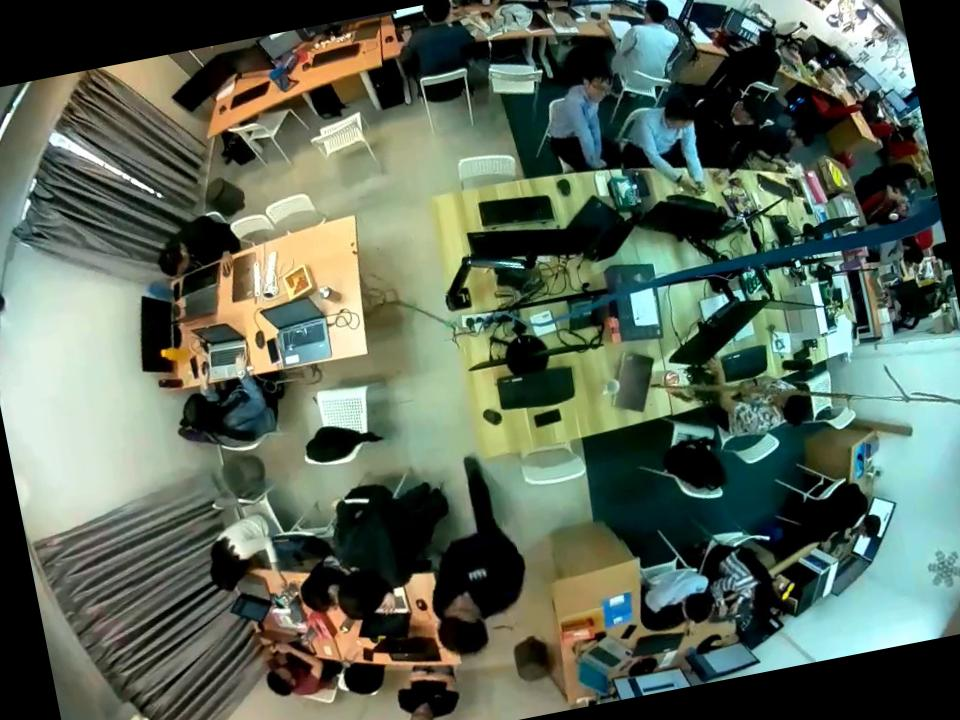employee_tag: (466, 567, 489, 582)
